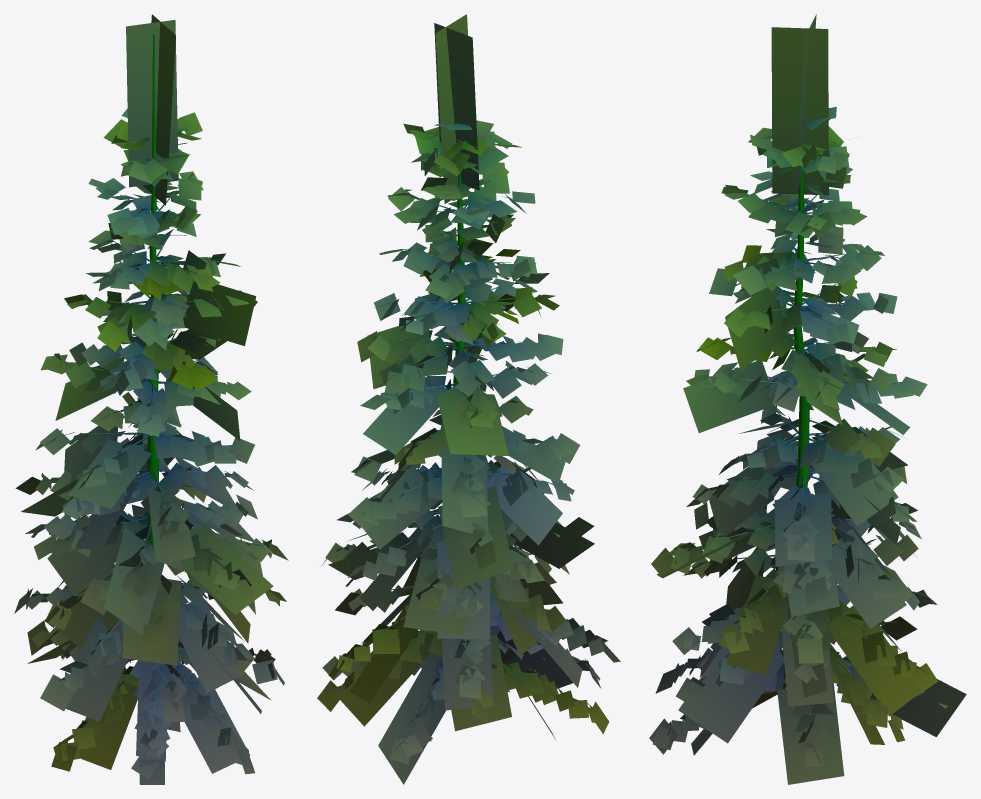
Rendered from spruce_sapling_b.glb.
3 renders of one model, left to right at view 1: azimuth 30°, elevation 25°; view 2: azimuth 150°, elevation 25°; view 3: azimuth 270°, elevation 25°, orthographic.
Visible parts, largest first — view 1: LOD0; view 2: LOD0; view 3: LOD0.
Boxes of the visible parts, bbox=[...] form: LOD0: bbox=[14, 14, 288, 784]; LOD0: bbox=[317, 14, 620, 784]; LOD0: bbox=[649, 14, 966, 784].
Size of what is drawn, in the model's own units: 1.98 by 4.94 by 1.98.
